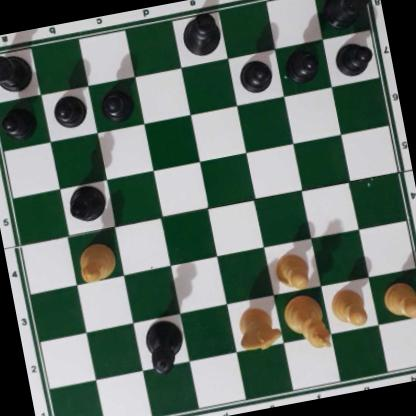black-bishop: (64, 182, 111, 226)
black-king: (177, 10, 226, 60)
black-pawn: (332, 37, 374, 79), (235, 54, 274, 95), (50, 91, 88, 131), (97, 83, 135, 123), (283, 45, 321, 84), (0, 102, 37, 140)
black-queen: (140, 316, 190, 378)
black-rook: (0, 45, 36, 97), (320, 0, 373, 30)
white-bishop: (75, 239, 118, 286)
white-king: (281, 292, 331, 354)
white-knight: (232, 302, 284, 354)
white-pawn: (327, 285, 370, 331), (271, 249, 312, 292), (380, 278, 416, 322)
